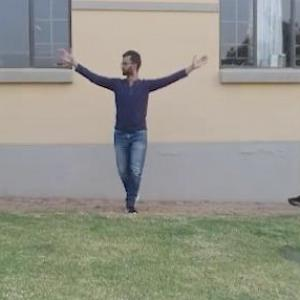takeoff: (33, 36, 197, 221)
